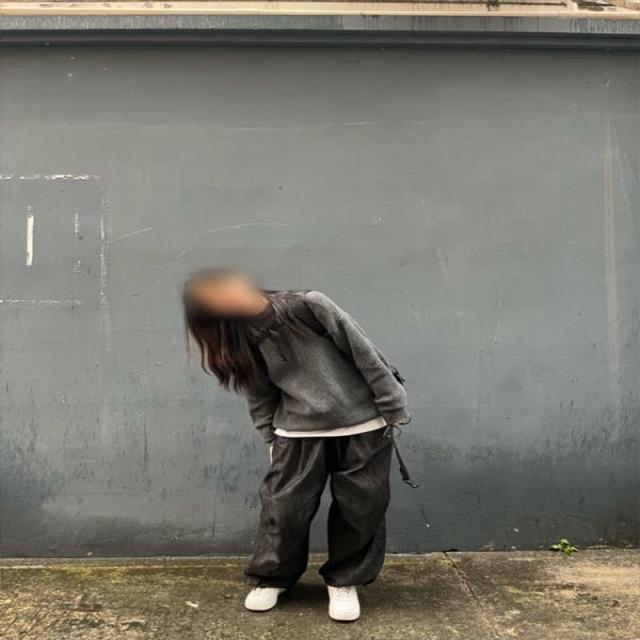cottonpants: (242, 424, 390, 591)
mtm: (202, 293, 413, 447)
